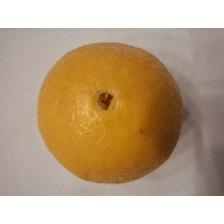Orange: (35, 40, 185, 184)
